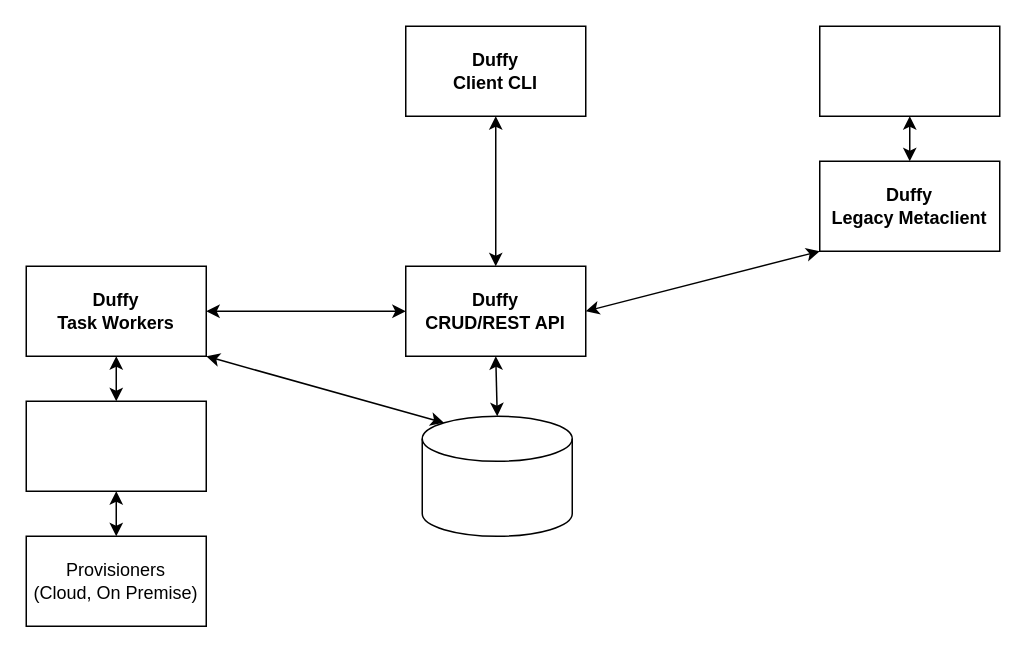
This 1026x653 diagram has some shape labels left out. The centre of each missing label's shape, as x and y in pixels:
"Ansible Playbooks" belongs at point (115, 445).
"Legacy API Clients" belongs at point (909, 70).
"PostgreSQL Database" belongs at point (496, 475).
